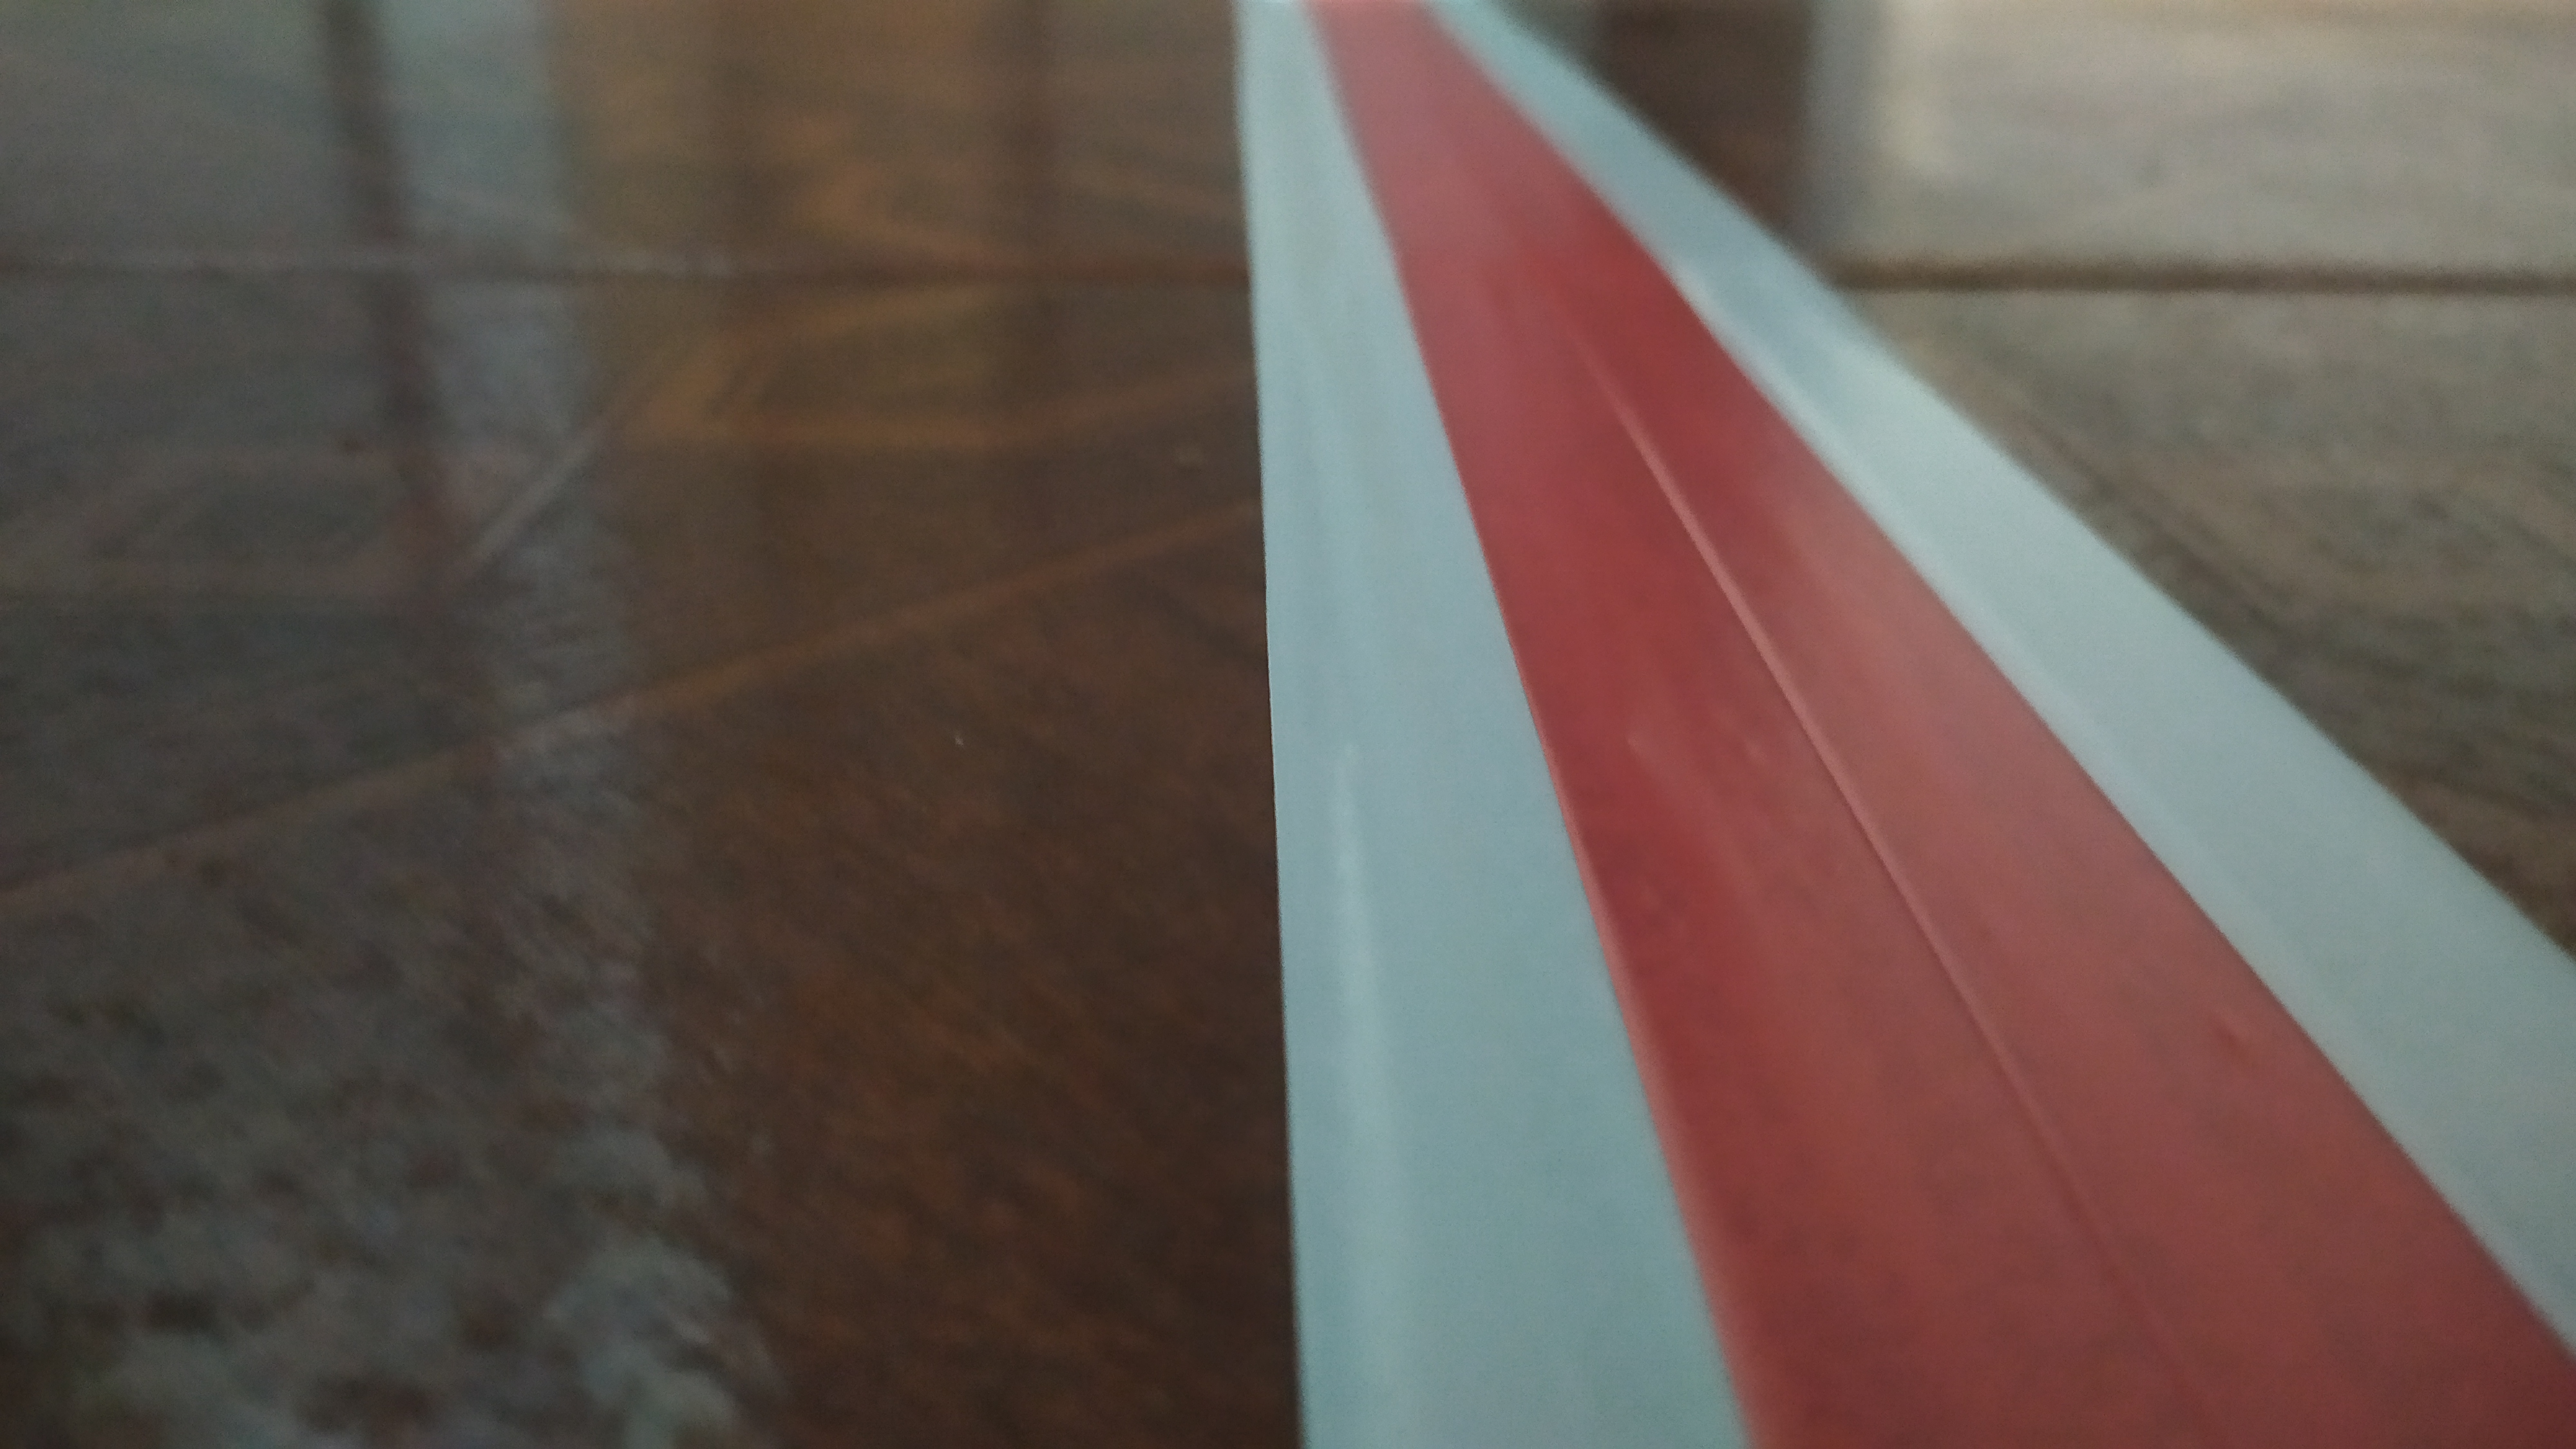faixa_reta: (1219, 12, 2565, 1449)
